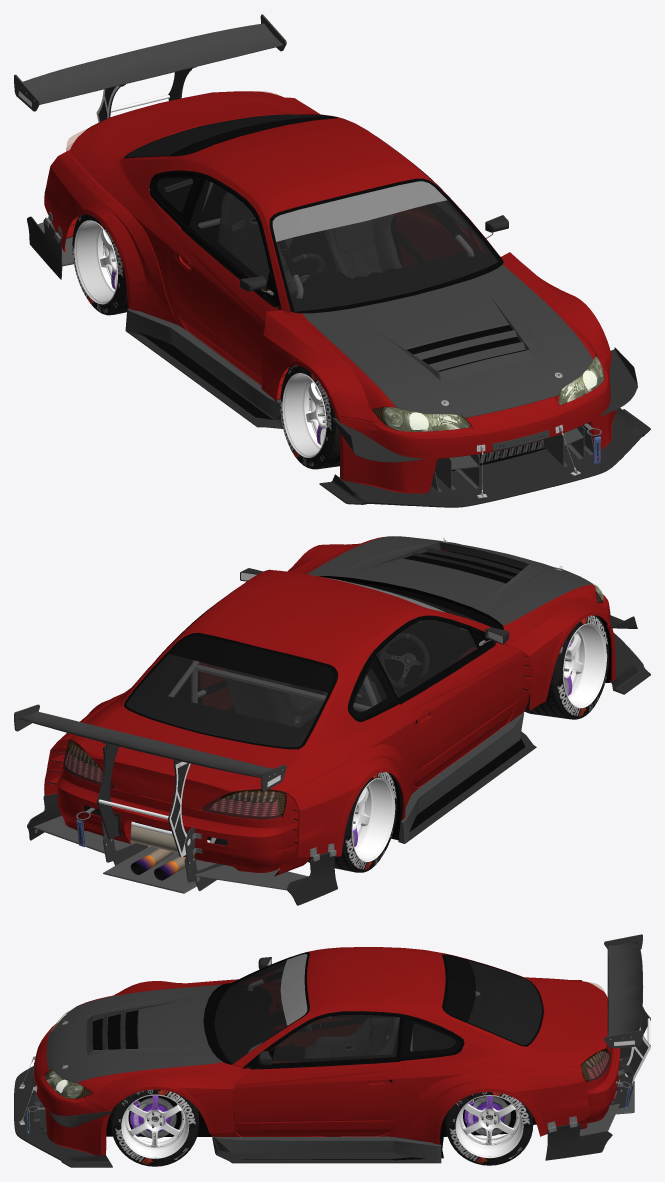
The model's file is nissan-silvia-s15.glb.
The picture shows the model from 3 angles, top to bottom: view 1: azimuth 30°, elevation 25°; view 2: azimuth 150°, elevation 25°; view 3: azimuth 270°, elevation 25°; orthographic projection. The views are drawn at different scales.
Visible parts, largest first — view 1: Mesh196_BODY1_0, Mesh1_window_0, Mesh193_h_0, Mesh45_h_0, Mesh48_BODY1_0, Mesh188_BODY1_0, Mesh195_BODY1_0, Mesh173_BODY1_0, Mesh150__auto__0, Mesh181_cf_0, Mesh197_window_0, Mesh33_cf_0 (+33 smaller); view 2: Mesh196_BODY1_0, Mesh1_window_0, Mesh48_BODY1_0, Mesh195_BODY1_0, Mesh193_h_0, Mesh173_BODY1_0, Mesh45_h_0, Mesh165_BODY1_0, Mesh151_BODY1_0, Mesh197_window_0, Mesh3_BODY1_0, Mesh17_BODY1_0 (+46 smaller); view 3: Mesh48_BODY1_0, Mesh1_window_0, Mesh47_BODY1_0, Mesh45_h_0, Mesh25_BODY1_0, Mesh196_BODY1_0, Mesh193_h_0, Mesh49_window_0, Mesh60_side_metal_0, Mesh40_BODY1_0, Mesh150__auto__0, Mesh3_BODY1_0 (+37 smaller).
Boxes of the visible parts, x1=… form: Mesh196_BODY1_0: x1=70, y1=130, x2=349, y2=385; Mesh1_window_0: x1=126, y1=114, x2=498, y2=311; Mesh193_h_0: x1=302, y1=295, x2=513, y2=418; Mesh45_h_0: x1=415, y1=264, x2=592, y2=407; Mesh48_BODY1_0: x1=256, y1=91, x2=495, y2=266; Mesh188_BODY1_0: x1=335, y1=408, x2=521, y2=493; Mesh195_BODY1_0: x1=44, y1=150, x2=178, y2=325; Mesh173_BODY1_0: x1=261, y1=310, x2=395, y2=421; Mesh150__auto__0: x1=291, y1=251, x2=496, y2=310; Mesh181_cf_0: x1=319, y1=460, x2=534, y2=507; Mesh197_window_0: x1=189, y1=179, x2=269, y2=290; Mesh33_cf_0: x1=504, y1=408, x2=650, y2=491; Mesh196_BODY1_0: x1=157, y1=583, x2=517, y2=876; Mesh1_window_0: x1=126, y1=586, x2=485, y2=747; Mesh48_BODY1_0: x1=63, y1=569, x2=348, y2=799; Mesh195_BODY1_0: x1=285, y1=744, x2=412, y2=857; Mesh193_h_0: x1=415, y1=551, x2=592, y2=625; Mesh173_BODY1_0: x1=503, y1=584, x2=609, y2=724; Mesh45_h_0: x1=306, y1=536, x2=505, y2=588; Mesh165_BODY1_0: x1=152, y1=800, x2=283, y2=872; Mesh151_BODY1_0: x1=157, y1=733, x2=298, y2=809; Mesh197_window_0: x1=376, y1=619, x2=477, y2=697; Mesh3_BODY1_0: x1=81, y1=707, x2=199, y2=799; Mesh17_BODY1_0: x1=58, y1=766, x2=156, y2=843; Mesh48_BODY1_0: x1=232, y1=972, x2=594, y2=1136; Mesh1_window_0: x1=214, y1=960, x2=542, y2=1064; Mesh47_BODY1_0: x1=393, y1=1064, x2=590, y2=1144; Mesh45_h_0: x1=46, y1=1021, x2=222, y2=1082; Mesh25_BODY1_0: x1=77, y1=1062, x2=246, y2=1136; Mesh196_BODY1_0: x1=242, y1=947, x2=594, y2=1045; Mesh193_h_0: x1=46, y1=984, x2=222, y2=1051; Mesh49_window_0: x1=272, y1=1014, x2=400, y2=1063; Mesh60_side_metal_0: x1=212, y1=1136, x2=441, y2=1163; Mesh40_BODY1_0: x1=34, y1=1055, x2=113, y2=1155; Mesh150__auto__0: x1=215, y1=985, x2=279, y2=1063; Mesh3_BODY1_0: x1=527, y1=1011, x2=612, y2=1054.
Size of the model in its own units: 338 by 191 by 769.
Materials: 70 (16 with a texture image).
